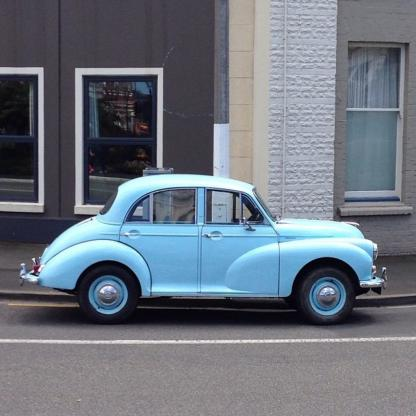Car: (20, 175, 388, 326)
